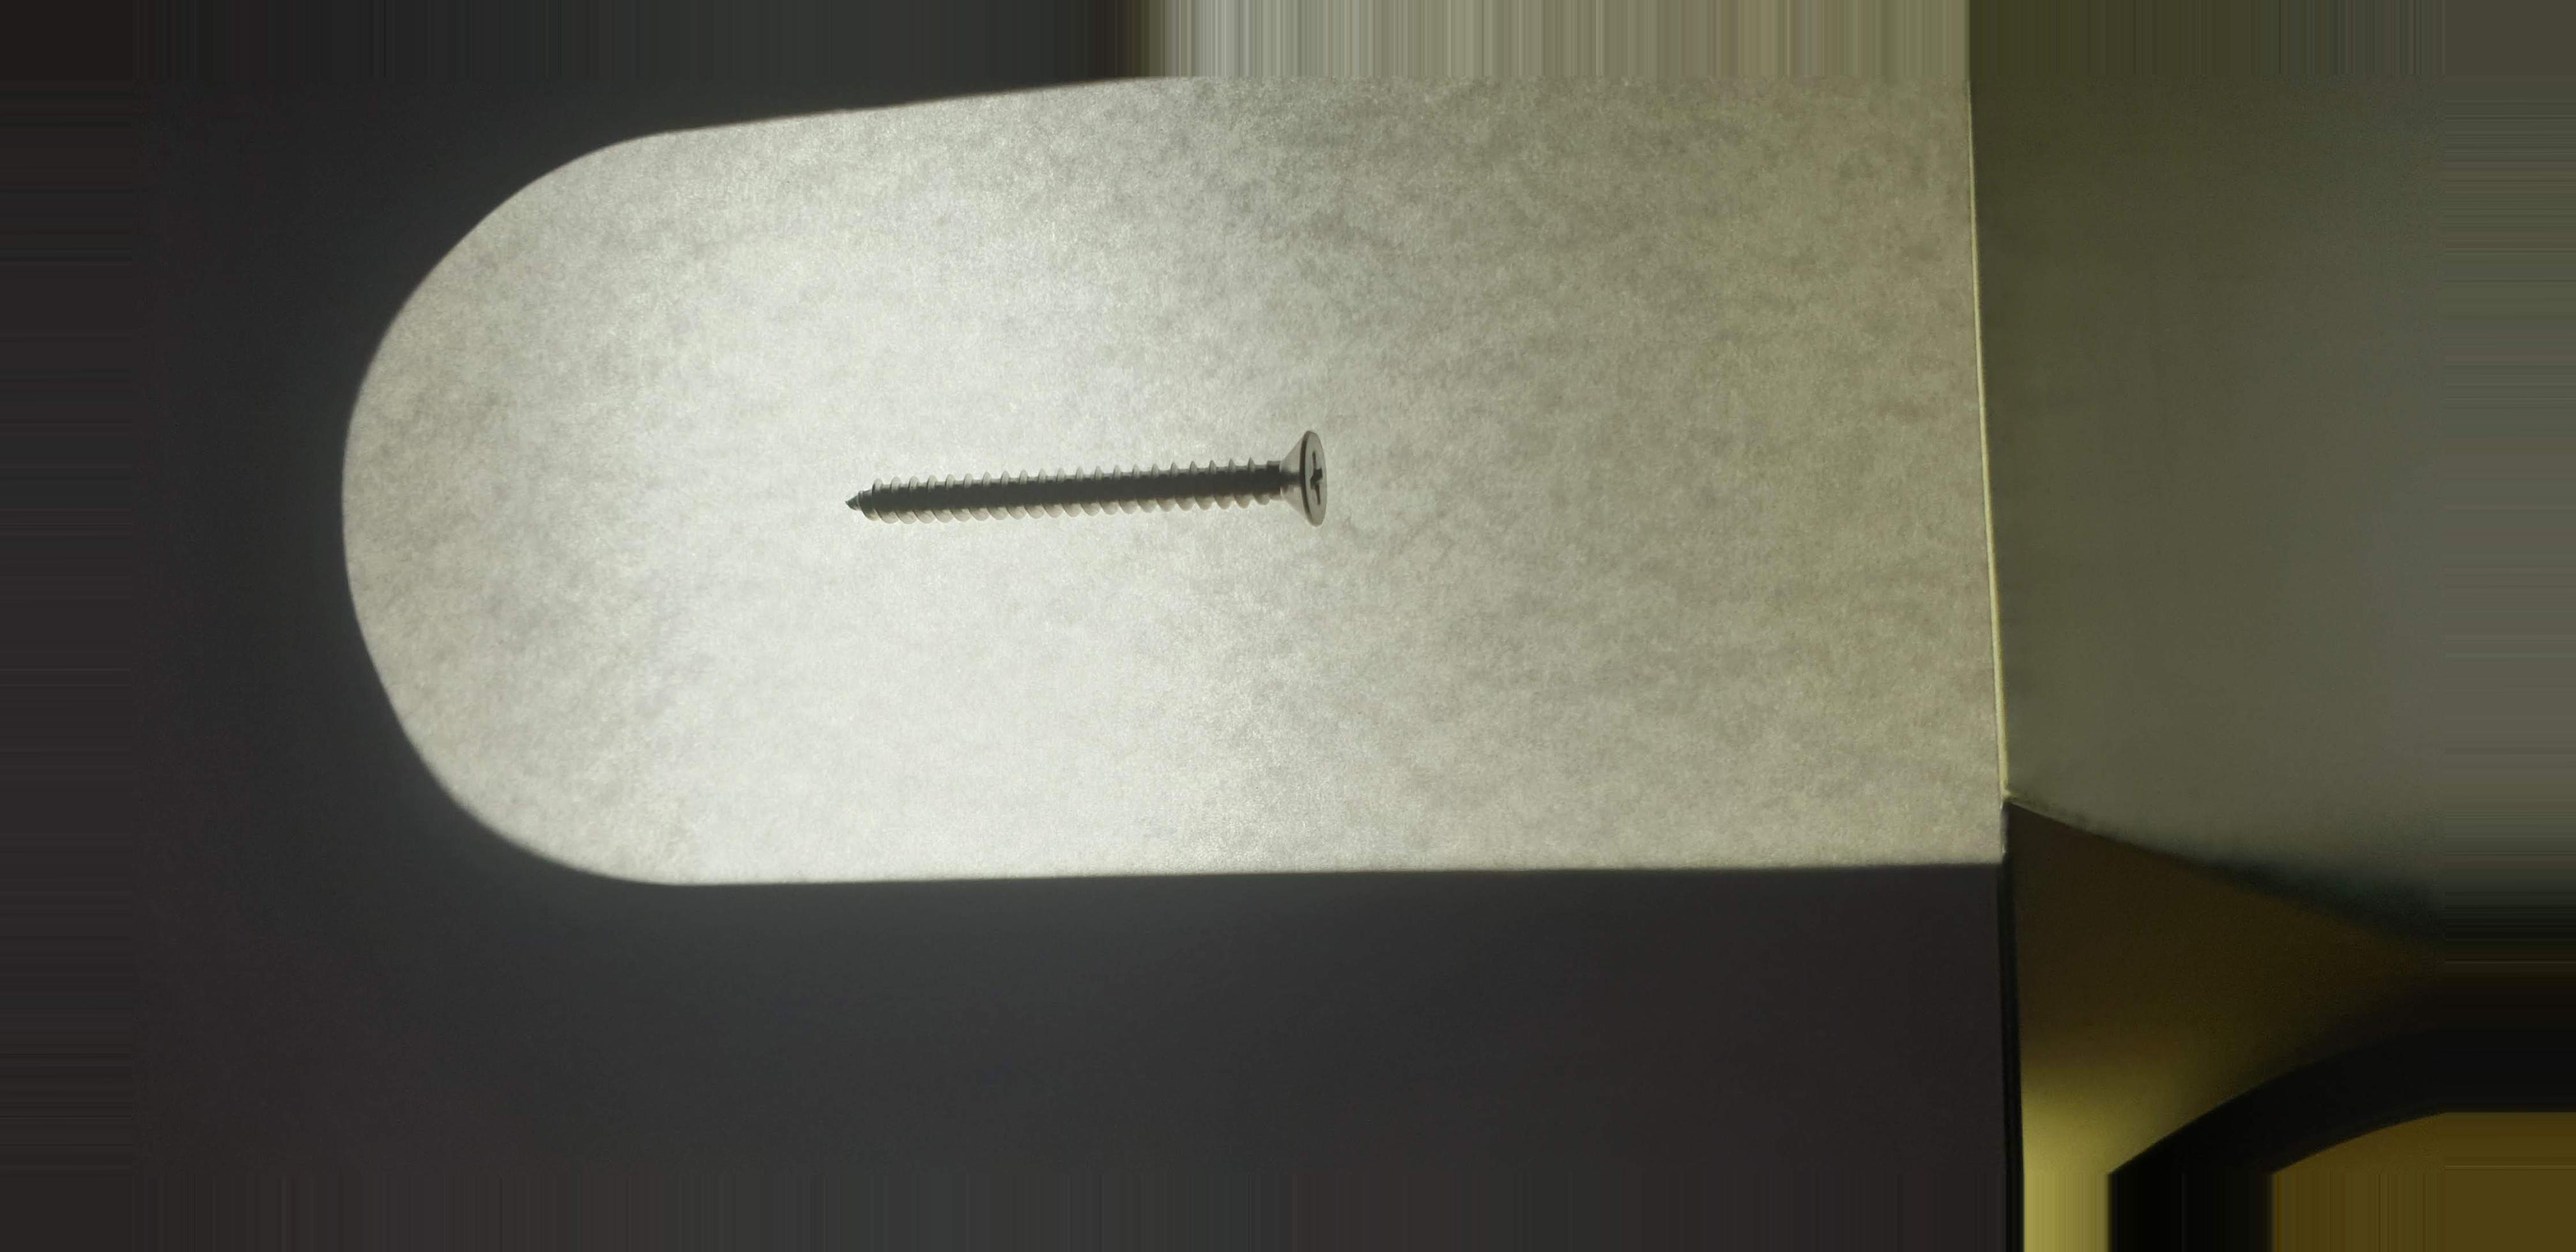S001: (825, 417, 1347, 547)
